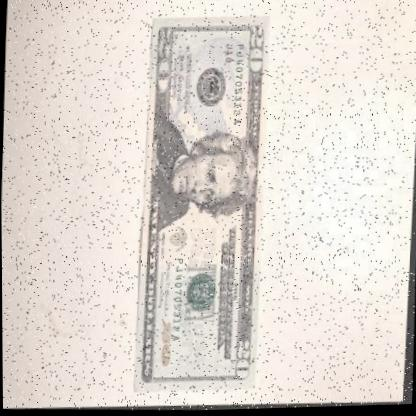dollar_front: (131, 14, 275, 399)
